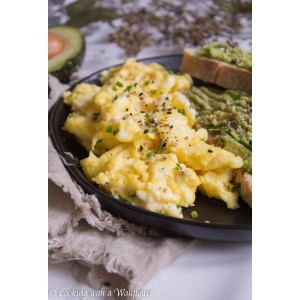egg_brain food: (89, 76, 193, 203)
